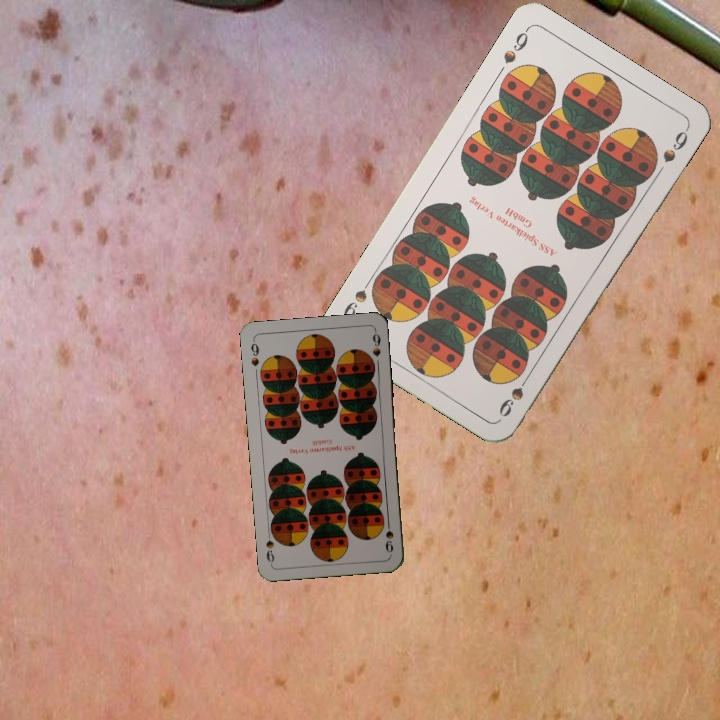S9: (494, 368, 534, 420), (499, 24, 532, 67), (381, 515, 396, 555), (247, 336, 262, 369)
